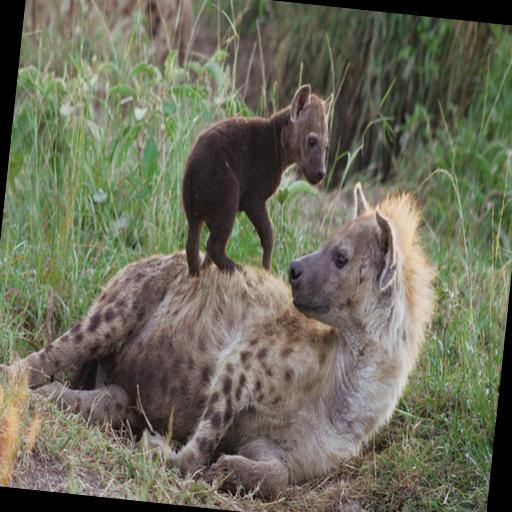hyenas: (5, 38, 473, 512)
